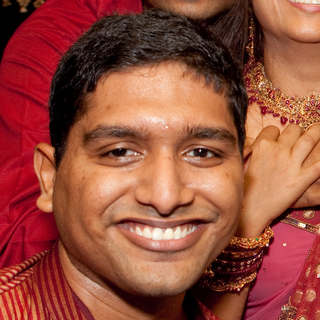eye: (175, 140, 226, 166), (94, 140, 147, 165)
